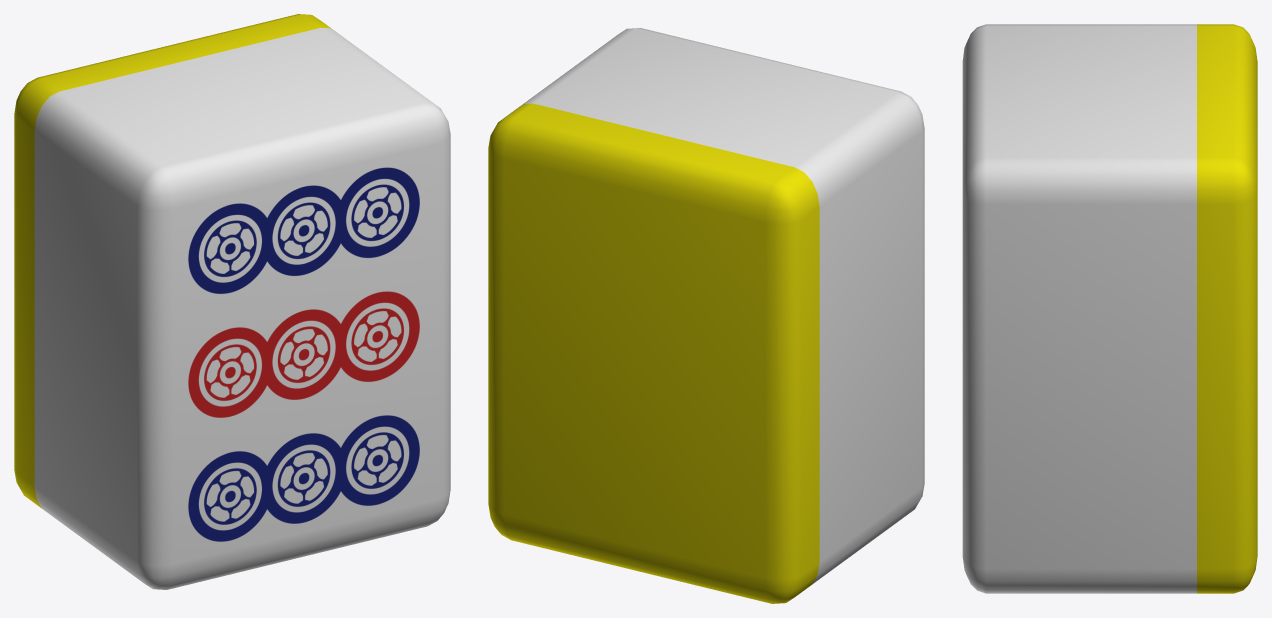
Rendered from pinzu9.glb.
3 renders of one model, left to right at view 1: azimuth 30°, elevation 25°; view 2: azimuth 150°, elevation 25°; view 3: azimuth 270°, elevation 25°, orthographic. The views are drawn at different scales.
Visible parts, largest first — view 1: Cube, Cube.001; view 2: Cube; view 3: Cube.
Boxes of the visible parts, x1,y1,x2,y2 form: Cube: (14,14,450,589); Cube.001: (188,167,419,541); Cube: (488,28,924,603); Cube: (962,24,1257,593).
Bounding box in the file's own units: 2 × 2.6 × 1.6.
Materials: 3 (1 with a texture image).
